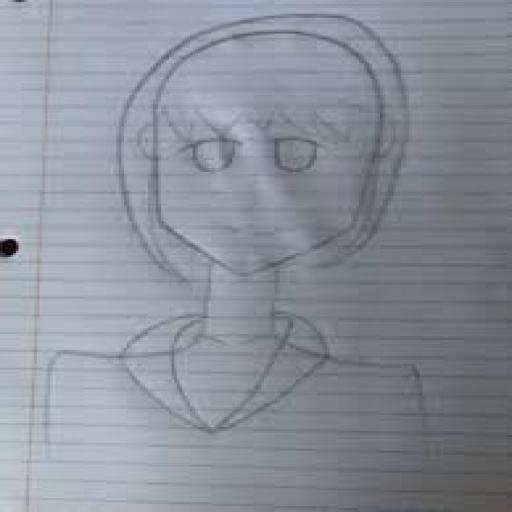person: (34, 10, 442, 479)
